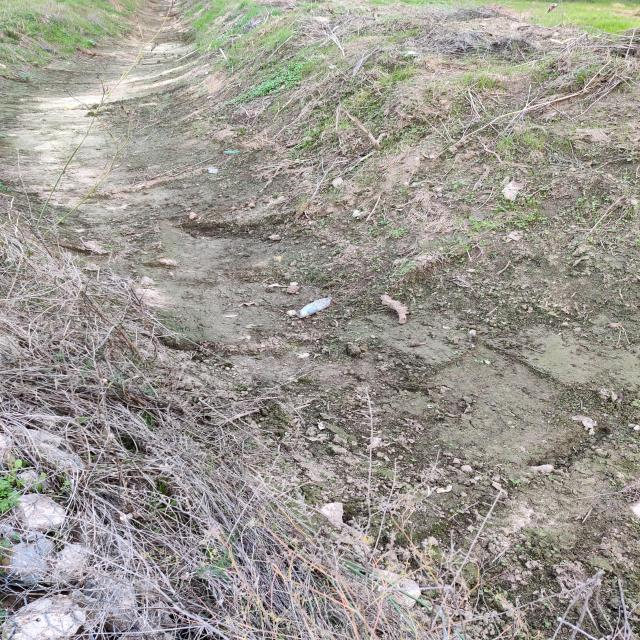litter: (297, 297, 333, 318)
